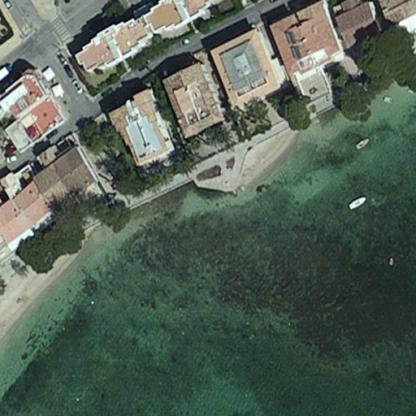ship: (343, 187, 372, 214), (351, 134, 372, 153)
